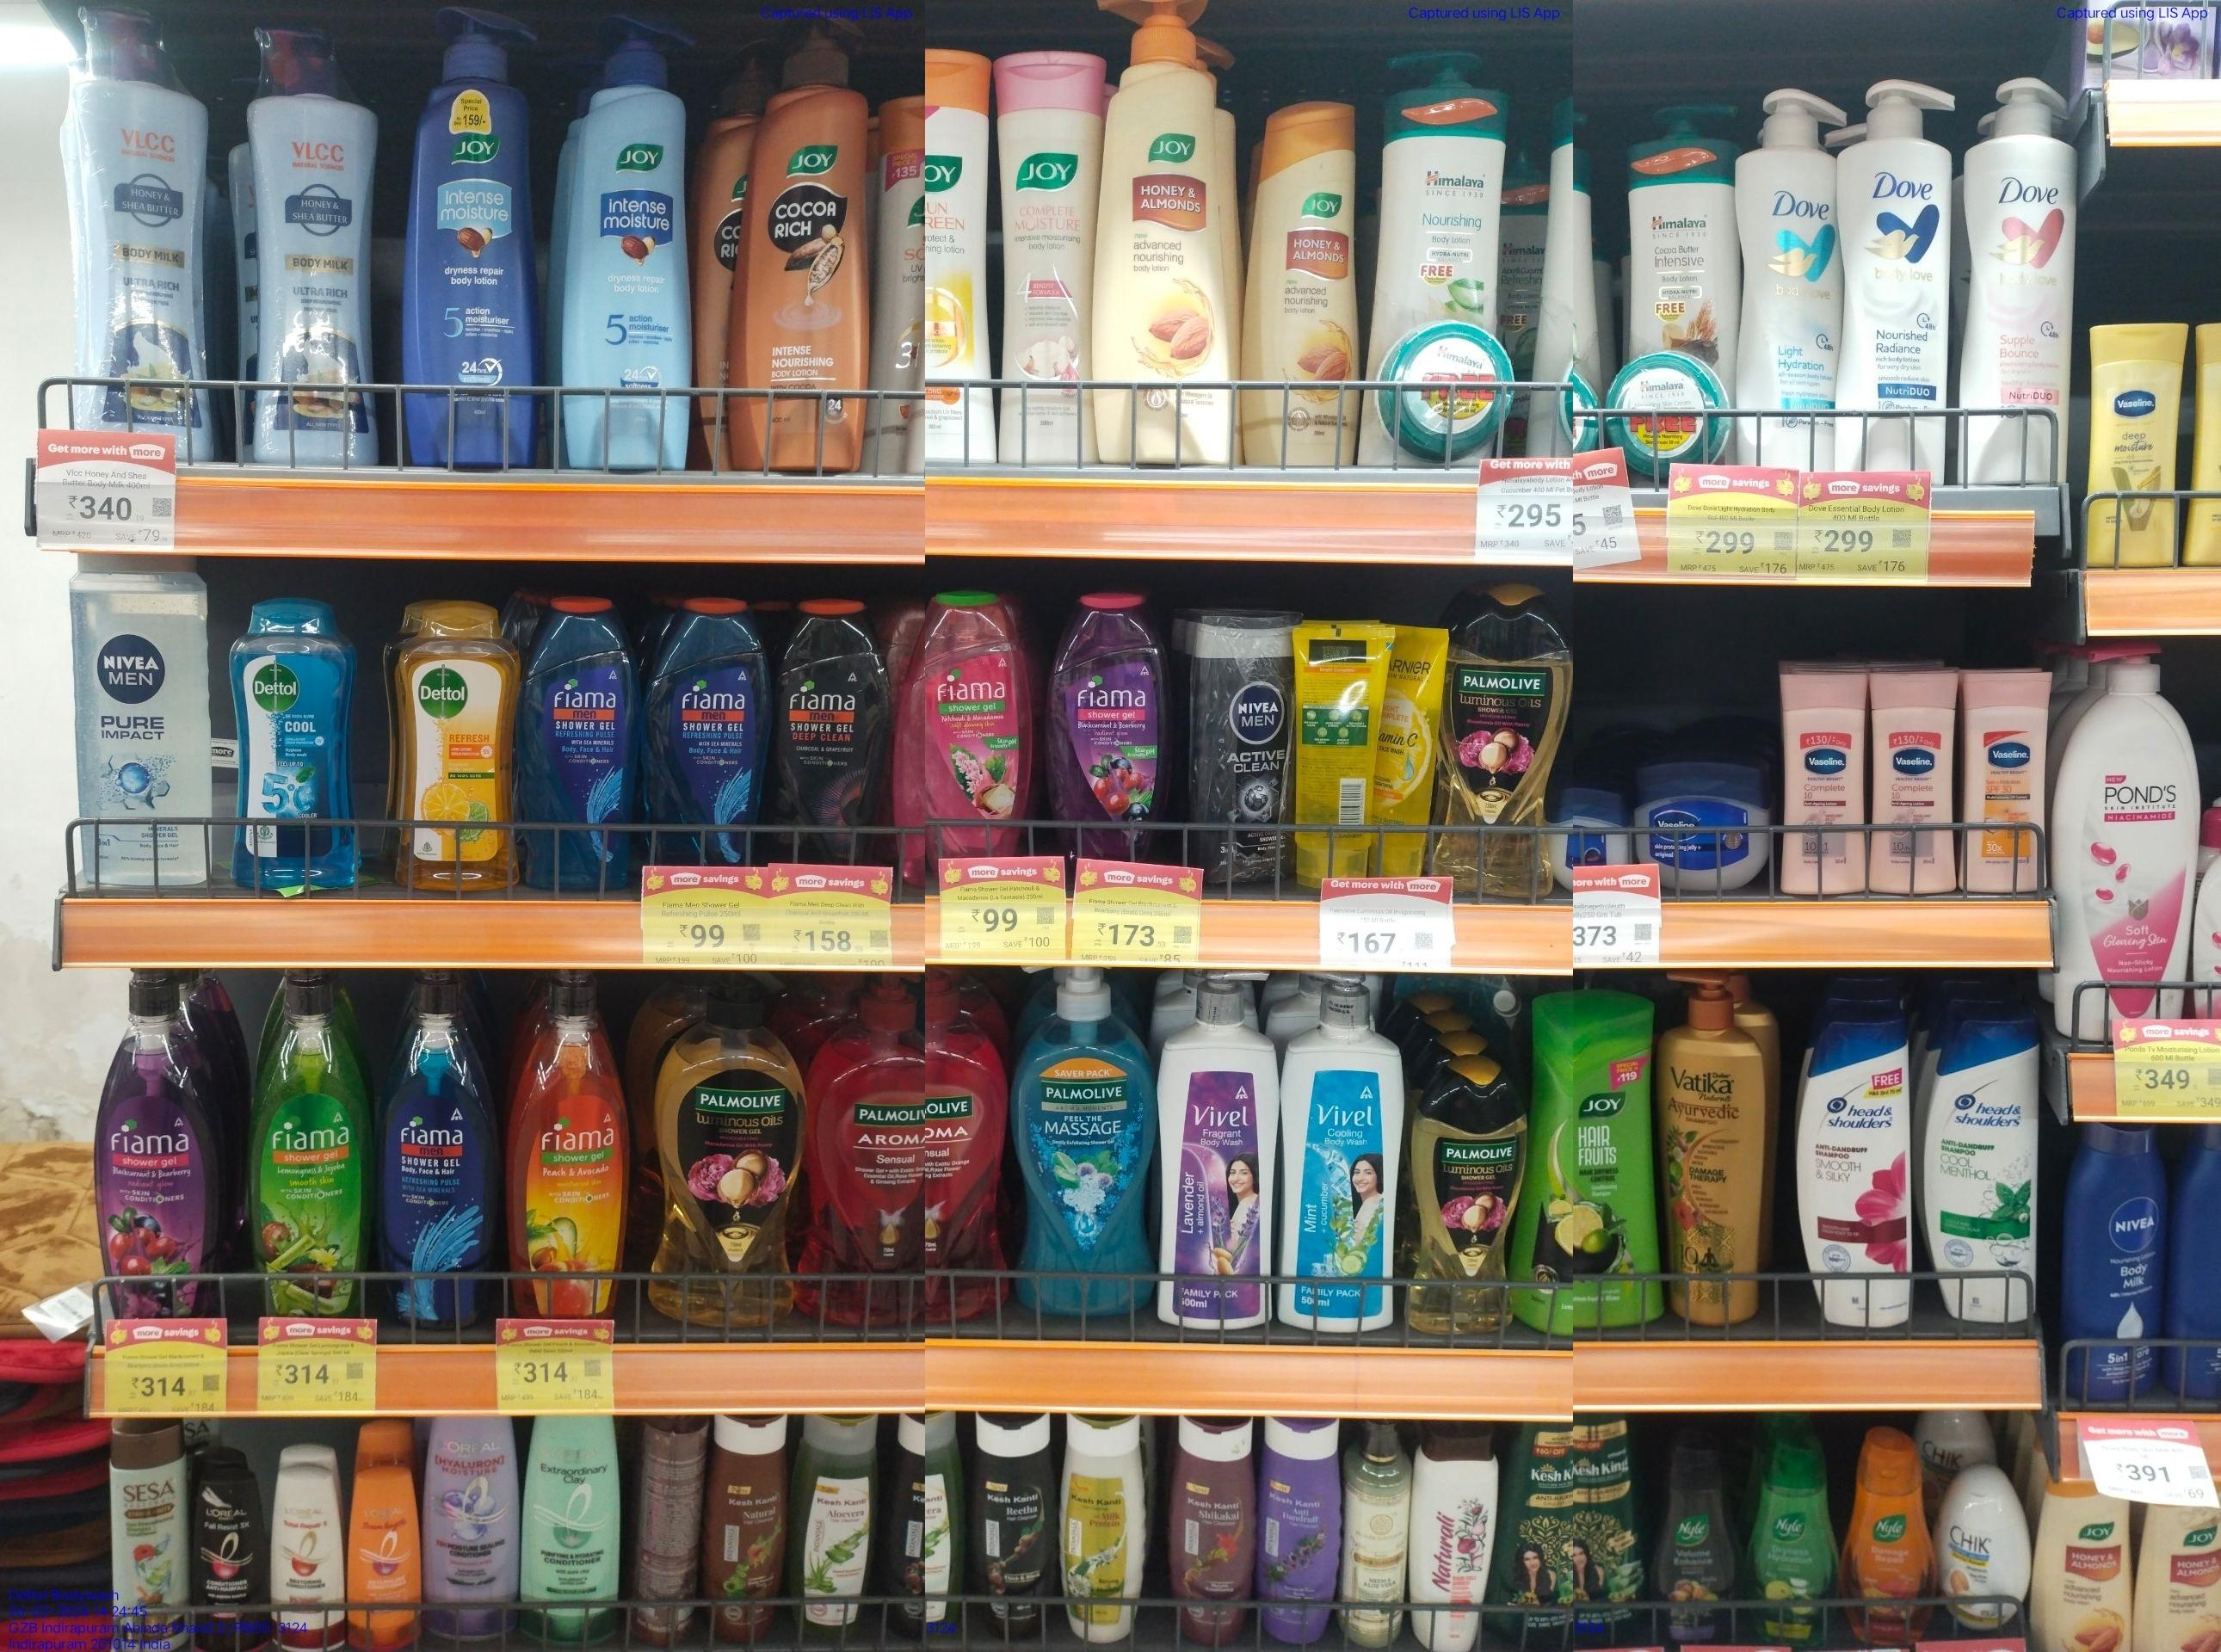Dettol_Bodywash_Cool: (233, 606, 359, 890)
Dettol_Bodywash_Refresh: (385, 609, 515, 894)
Fiama_Shower_Gel_Patchouli_and_Macadamia_250ML: (906, 592, 1034, 861)
